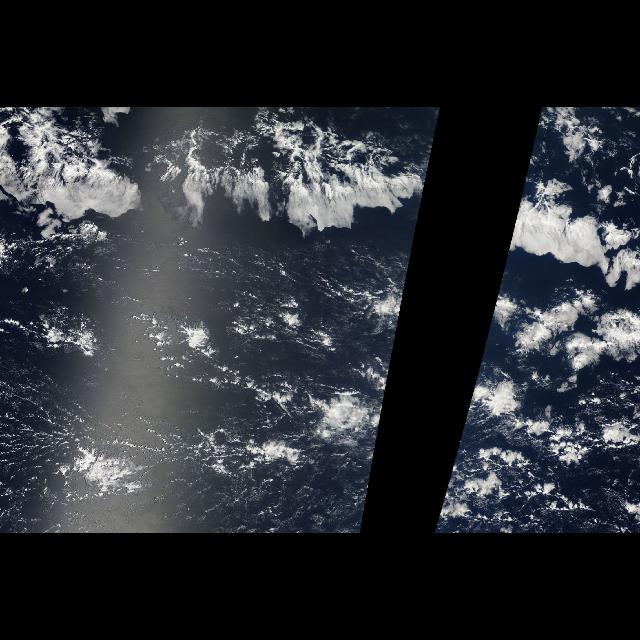Fish: (5, 128, 422, 240), (504, 178, 640, 286)
Flower: (156, 284, 407, 483), (455, 270, 639, 524)
Gravel: (22, 277, 292, 498), (432, 398, 636, 530)
Sugar: (3, 243, 407, 533)
